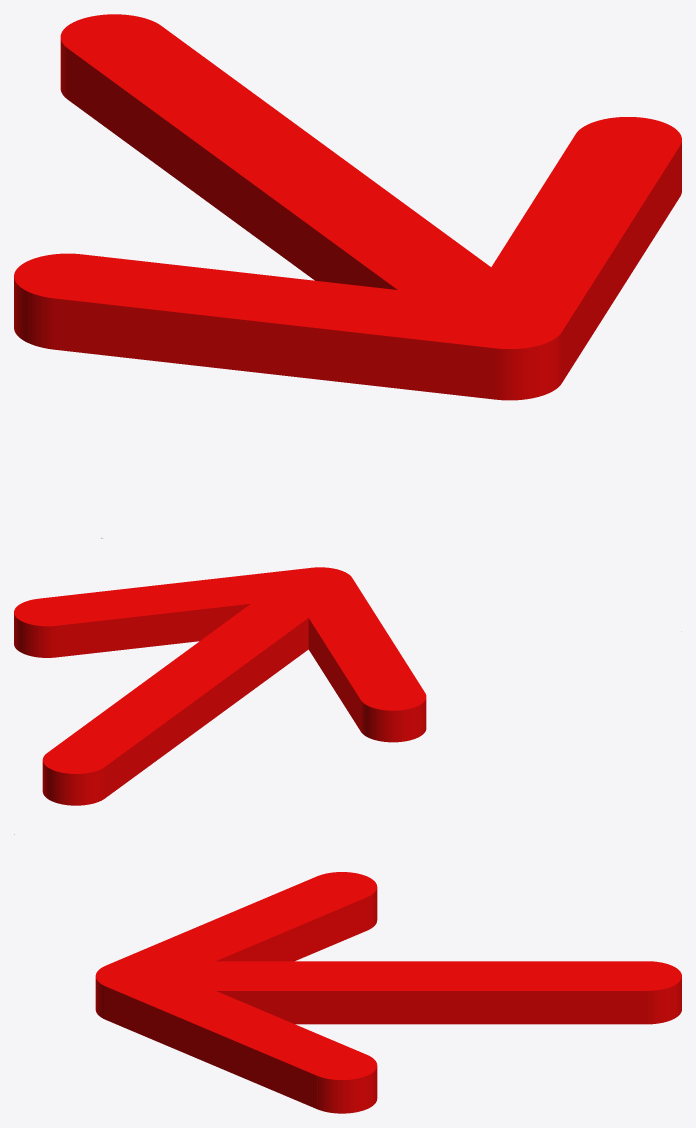
File: down-arrow.glb
3 renders of one model, top to bottom at view 1: azimuth 30°, elevation 25°; view 2: azimuth 150°, elevation 25°; view 3: azimuth 270°, elevation 25°, orthographic. The views are drawn at different scales.
Visible parts, largest first — view 1: Curve; view 2: Curve; view 3: Curve.
Boxes of the visible parts, x1=… form: Curve: x1=14, y1=14, x2=681, y2=400; Curve: x1=14, y1=567, x2=426, y2=805; Curve: x1=95, y1=872, x2=681, y2=1113.
Size of the model in its own units: 2.41 by 0.1431 by 2.59.
